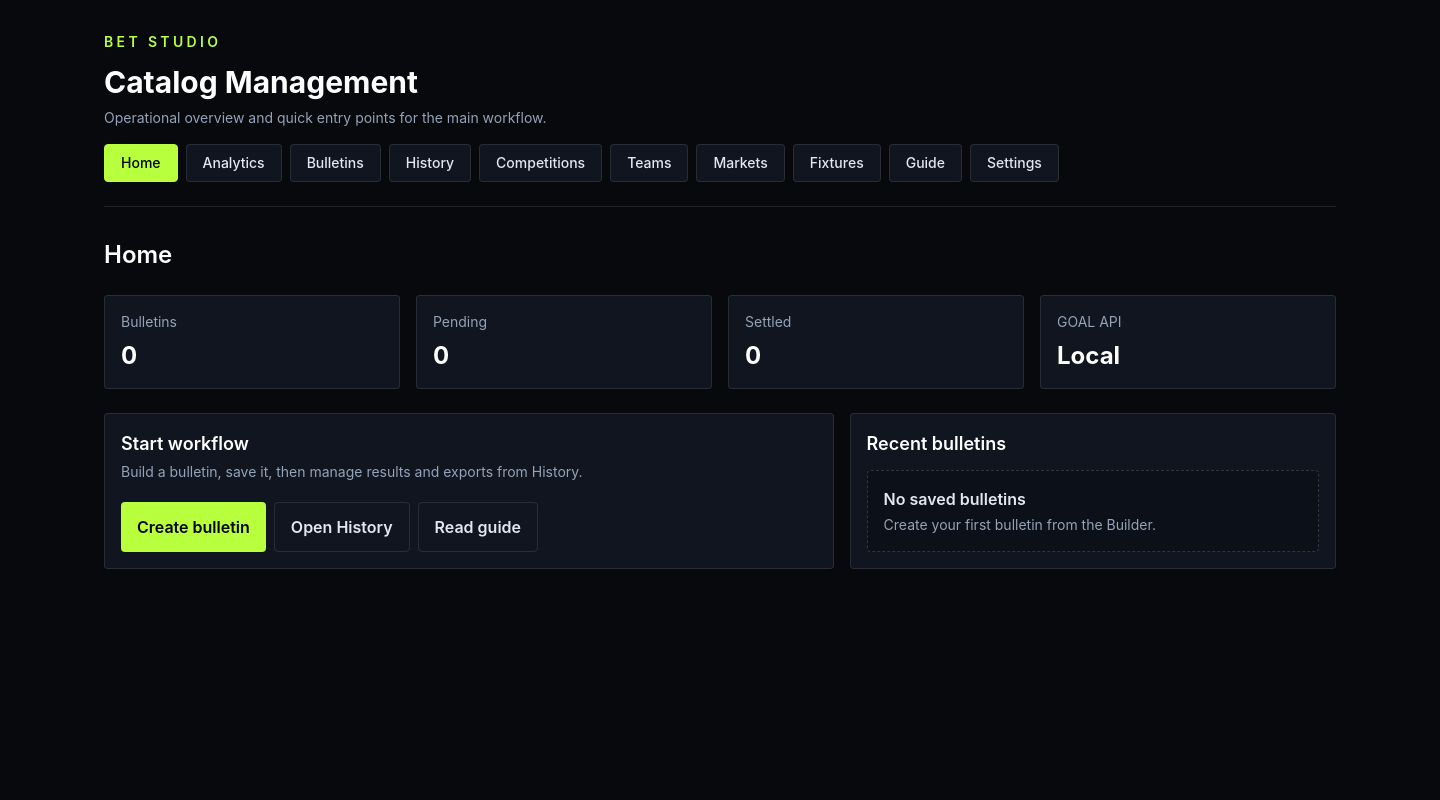
it: App › renders the bulletin builder shell and loads local picker data
The width and height of the screenshot is (1440, 800).
Check: the text "Bet Studio" is shown, box [104,33,221,50]
Check: the heading "Catalog Management" is shown, box [104,64,418,100]
What coordinates should you click on to do the following:
click the button "Bulletins"
I would click on:
 (335, 163)
Its box is [290,144,381,182].
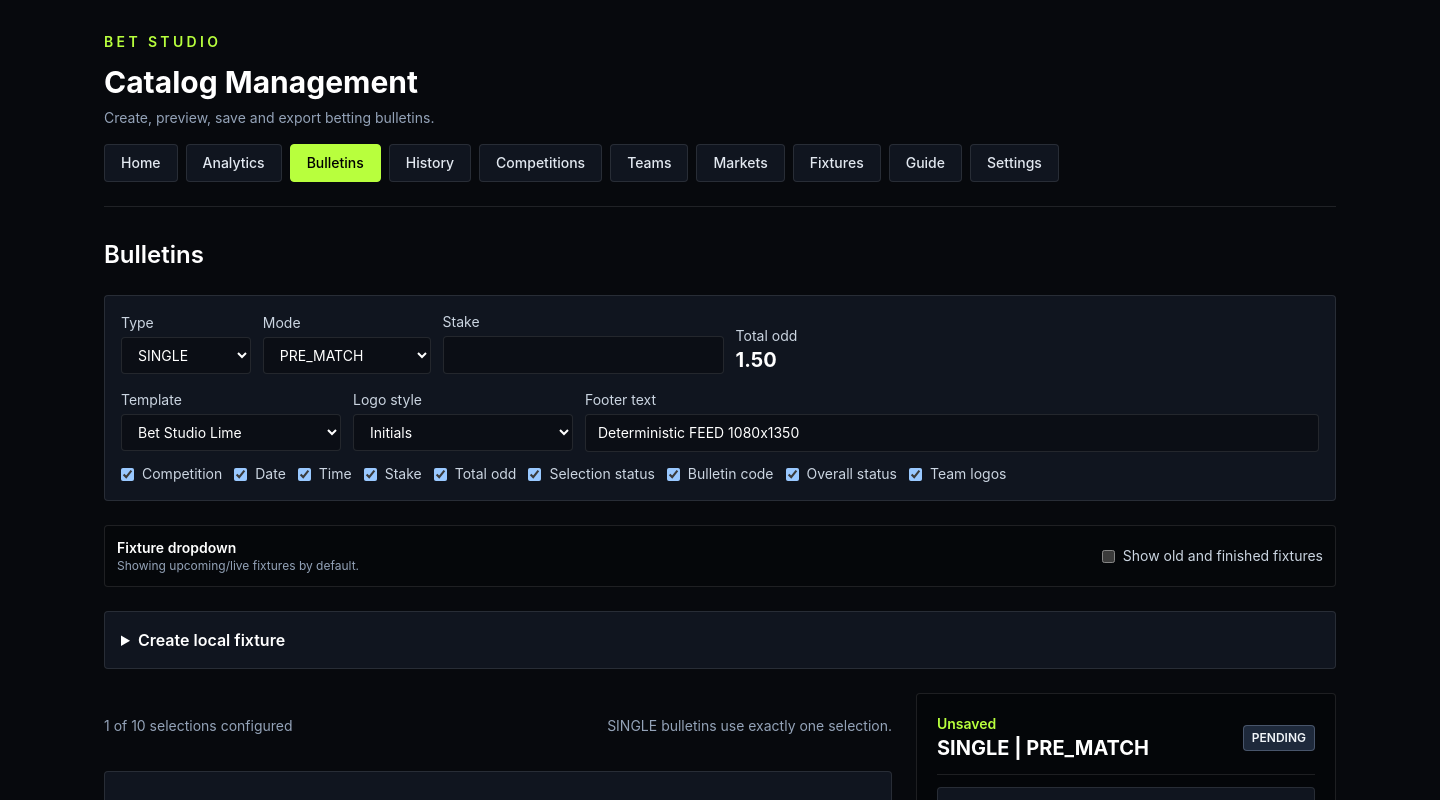
What coordinates should you click on to do the following:
click the button "Analytics"
I would click on:
 (234, 163)
Its box is [186,144,282,182].
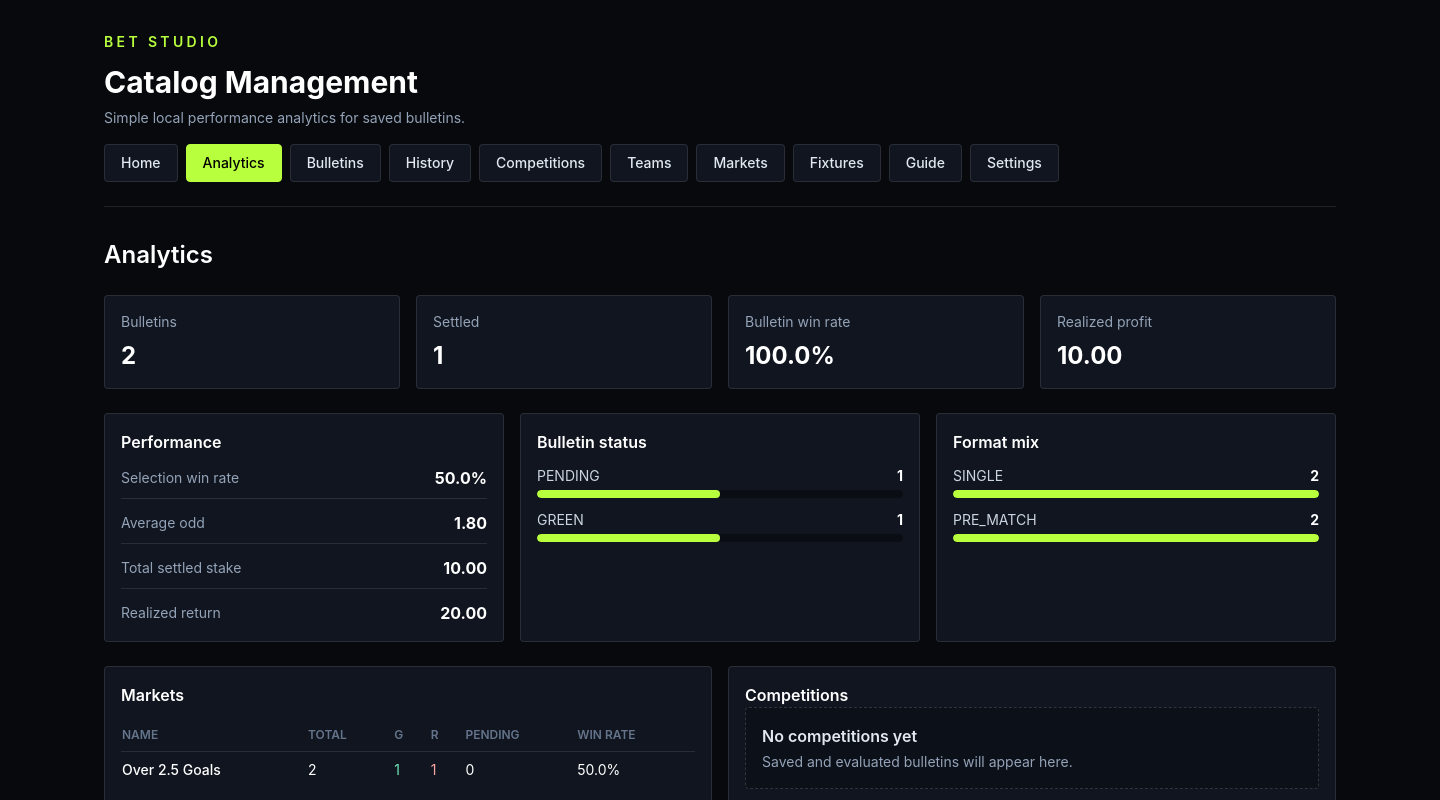
Check: the text "Realized profit" is shown, box [1057,313,1152,330]
Check: the text "100.0%" is shown, box [745,341,835,370]
